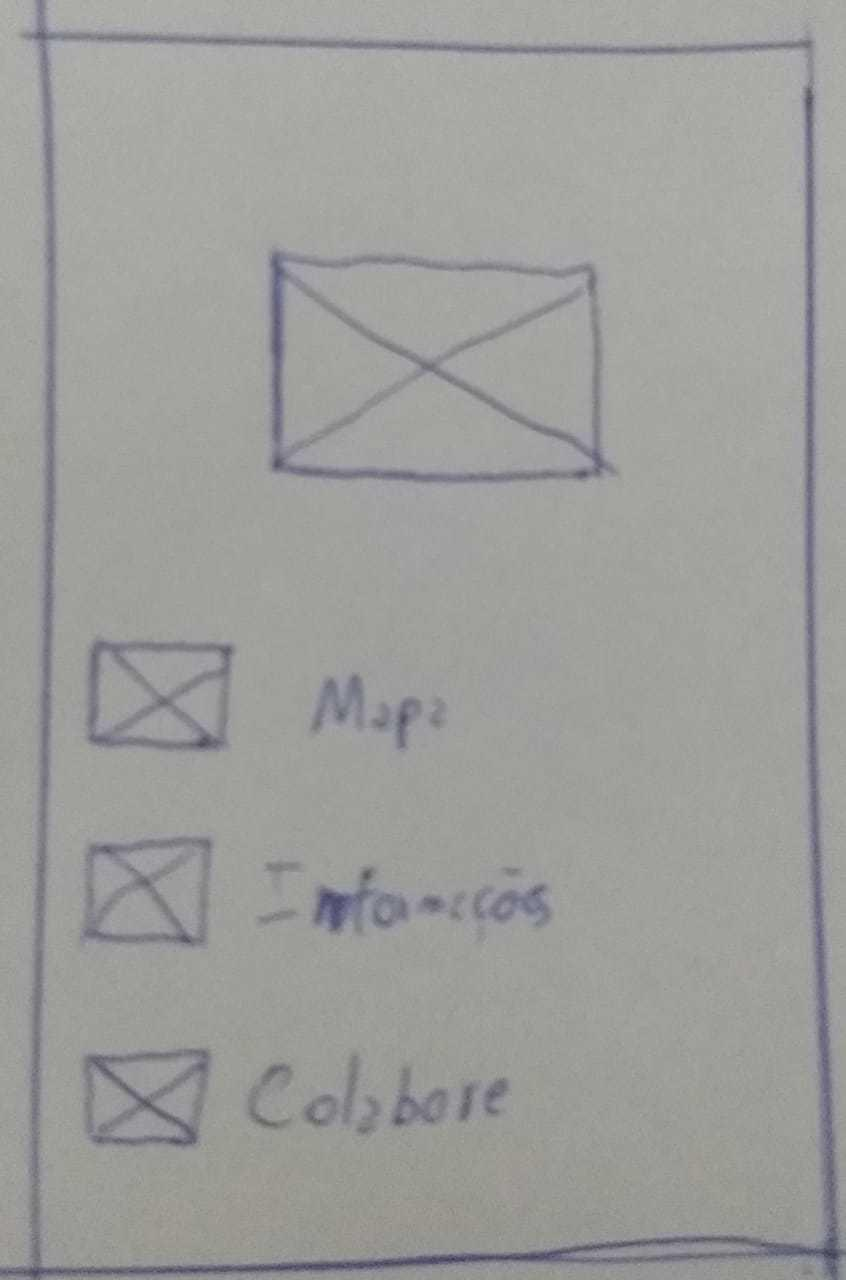Image: (270, 249, 603, 482), (89, 643, 235, 750), (85, 841, 210, 943), (81, 1049, 209, 1147)
Label: (257, 863, 554, 939), (246, 1051, 512, 1130), (310, 670, 449, 751)
Screen: (31, 31, 834, 1271)
